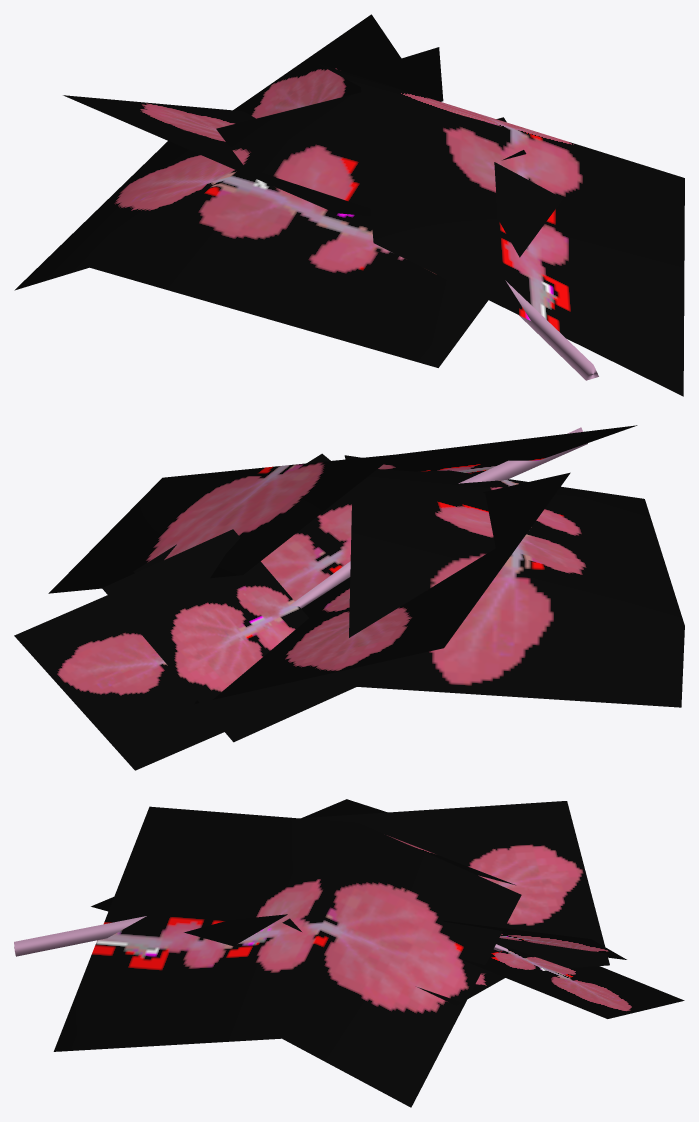
The model's file is pi_watercress02_01.gltf.
3 views of the same model, one above another, from view 1: azimuth 30°, elevation 25°; view 2: azimuth 150°, elevation 25°; view 3: azimuth 270°, elevation 25° (orthographic). The views are drawn at different scales.
Parts seen in each view (by area): view 1: pi_watercress02_01_mesh_shape:pi_watercress02_01_main; view 2: pi_watercress02_01_mesh_shape:pi_watercress02_01_main; view 3: pi_watercress02_01_mesh_shape:pi_watercress02_01_main.
Boxes of the visible parts, x1,y1,x2,y2 form: pi_watercress02_01_mesh_shape:pi_watercress02_01_main: [14, 14, 684, 396]; pi_watercress02_01_mesh_shape:pi_watercress02_01_main: [14, 425, 684, 770]; pi_watercress02_01_mesh_shape:pi_watercress02_01_main: [14, 799, 684, 1107].
Bounding box in the file's own units: 0.4093 × 0.13 × 0.4573.
1 material, 1 textured.
